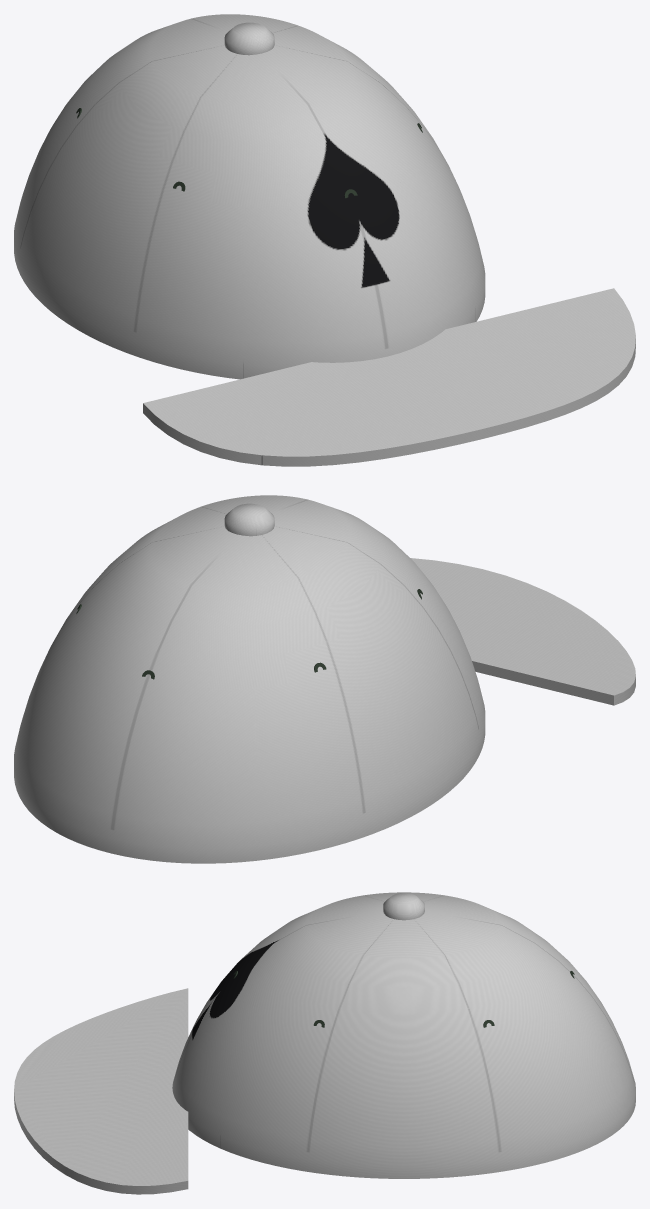
Rendered from SM_Hat_Cap.glb.
3 renders of one model, top to bottom at view 1: azimuth 30°, elevation 25°; view 2: azimuth 150°, elevation 25°; view 3: azimuth 270°, elevation 25°, orthographic. The views are drawn at different scales.
Parts seen in each view (by area): view 1: SM_Hat_Cap; view 2: SM_Hat_Cap; view 3: SM_Hat_Cap.
Boxes of the visible parts, x1,y1,x2,y2 form: SM_Hat_Cap: [14, 14, 635, 466]; SM_Hat_Cap: [14, 495, 635, 863]; SM_Hat_Cap: [14, 892, 635, 1194].
Bounding box in the file's own units: 0.196 × 0.0994 × 0.2676.
3 materials, 3 textured.
